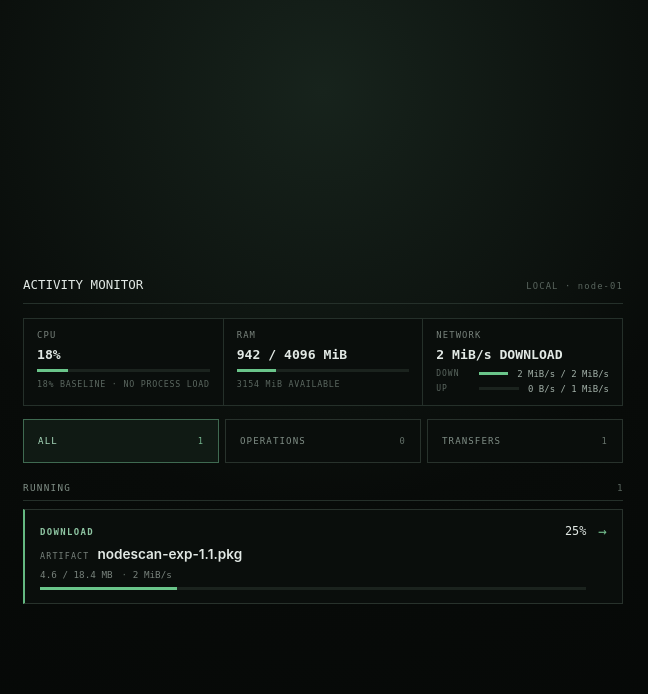
Activity Monitor: FileTransfer › presents the transfer route and artifact relationship in detail, not in the overview row
Check: the element with class "am-row" does not show "/opt/packages/nodescan-exp-1.1.pkg"
Step 1. Click the button with class "am-row" → point(67, 532), box [23,508,623,604]
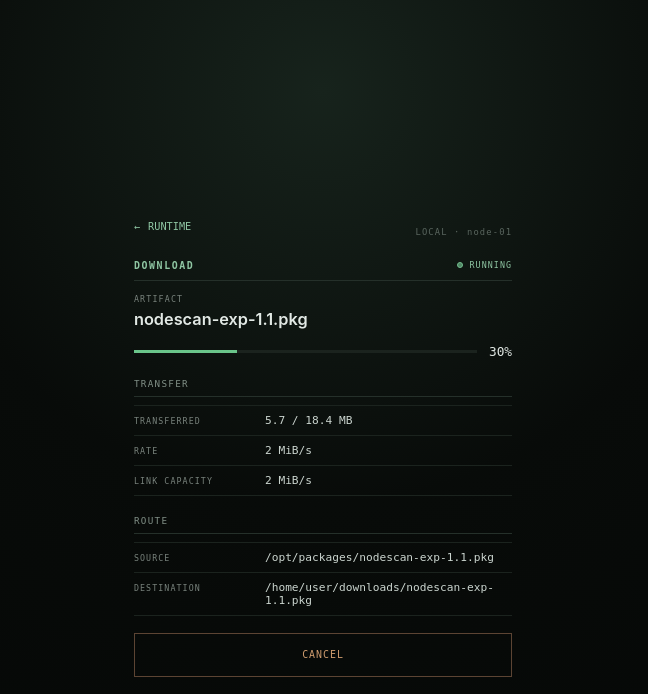
Check: the text "nodescan-exp-1.1.pkg" is shown, box [134,308,308,328]
Check: the text "/opt/packages/nodescan-exp-1.1.pkg" is shown, box [265,550,512,564]
Check: the text "/home/user/downloads/nodescan-exp-1.1.pkg" is shown, box [265,580,512,606]
